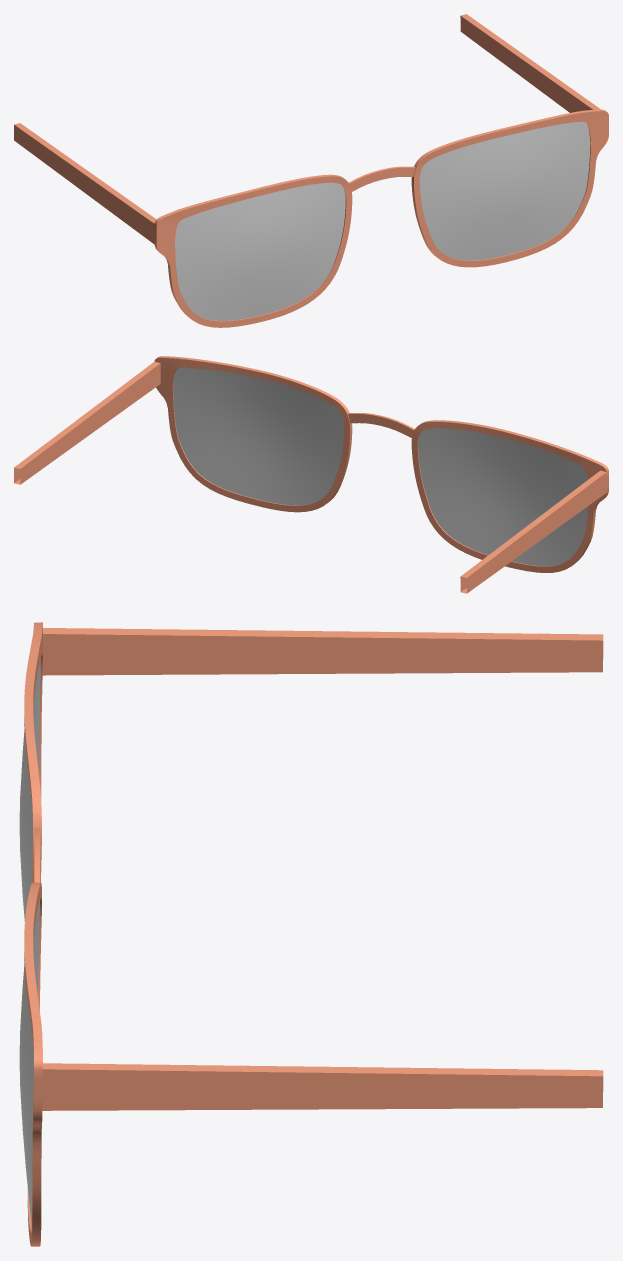
The model's file is PRADA Glasses Full Res Cutoff.fbx.
3 renders of one model, top to bottom at view 1: azimuth 30°, elevation 25°; view 2: azimuth 150°, elevation 25°; view 3: azimuth 270°, elevation 25°, orthographic. The views are drawn at different scales.
Visible parts, largest first — view 1: PRADA Glasses Full Res Cutoff; view 2: PRADA Glasses Full Res Cutoff; view 3: PRADA Glasses Full Res Cutoff.
Part boxes in pixels (<box>): PRADA Glasses Full Res Cutoff: <box>14,14,608,327</box>; PRADA Glasses Full Res Cutoff: <box>14,356,608,593</box>; PRADA Glasses Full Res Cutoff: <box>19,622,603,1246</box>.
Bounding box in the file's own units: 0.1671 × 0.0471 × 0.0933.
